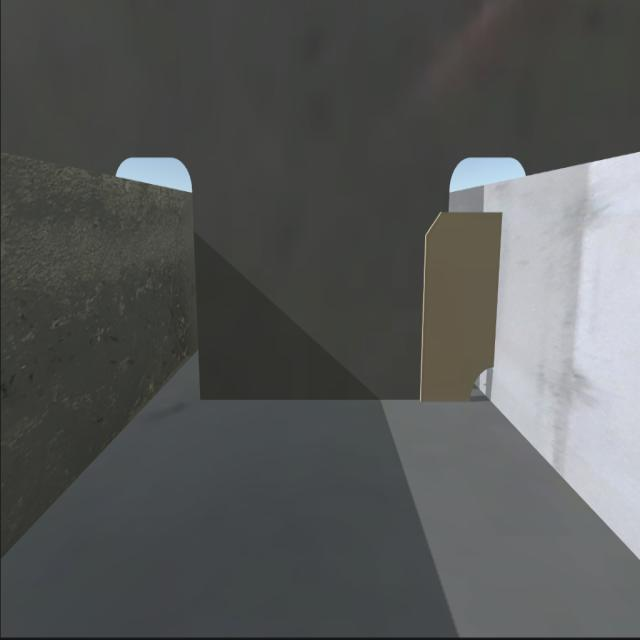fillet_hole: (467, 361, 493, 399)
fillet_yong_jeop_jang: (199, 389, 469, 404)
longi_yong_jeop_jang: (492, 210, 507, 375)
plate_CP03: (419, 207, 493, 396)
